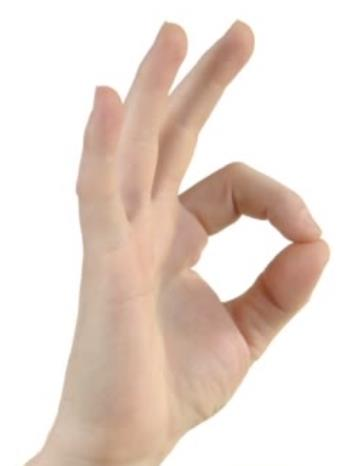left: (61, 16, 333, 447)
